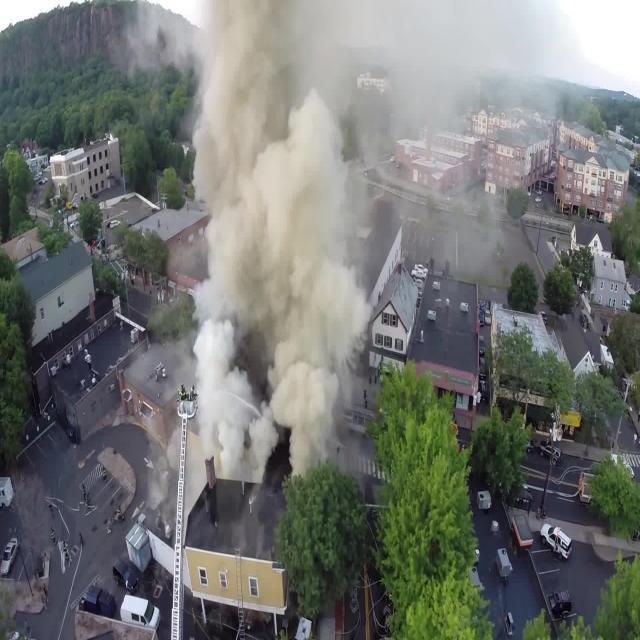Smoke: (188, 0, 372, 491)
